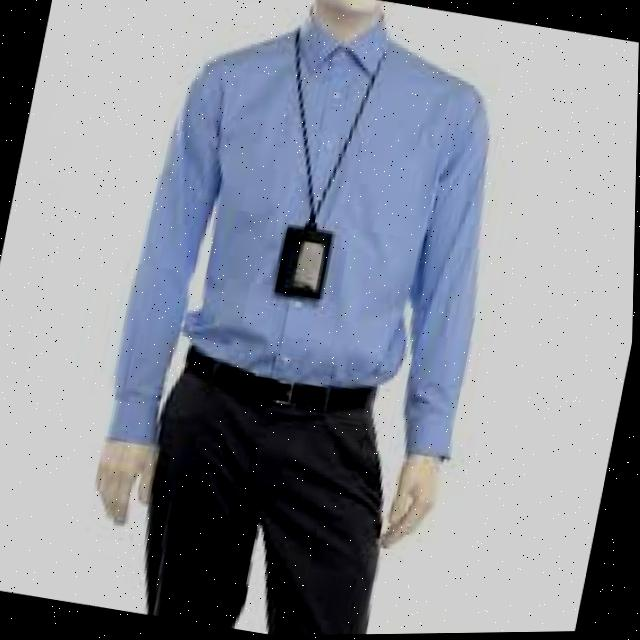id_card: (244, 25, 394, 314)
